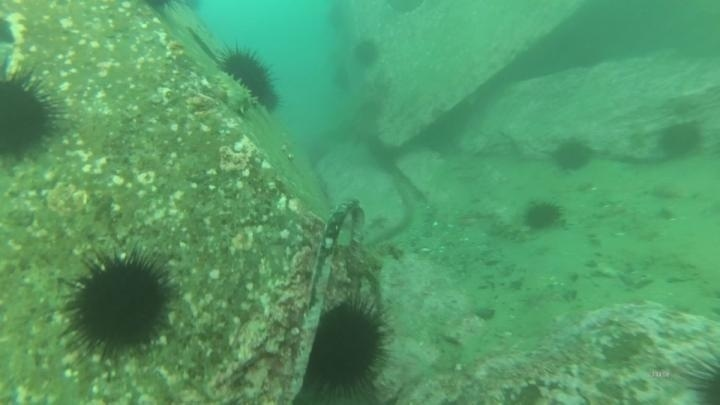echinus: (61, 247, 177, 361), (304, 295, 394, 400), (1, 66, 64, 164), (214, 43, 275, 92), (679, 345, 720, 405), (656, 118, 705, 162), (550, 136, 594, 175), (521, 198, 565, 234), (350, 36, 382, 70), (325, 62, 357, 96), (312, 1, 344, 34)
holothurian: (208, 68, 259, 118)
